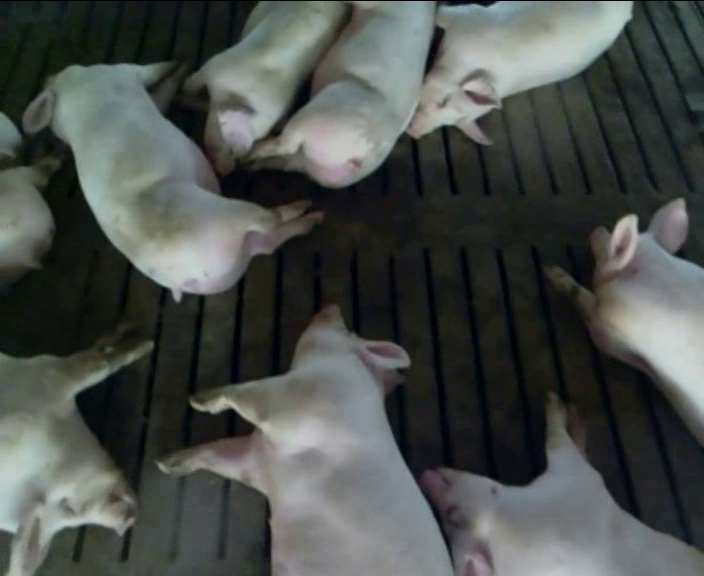pig: (157, 305, 451, 573), (24, 62, 321, 299), (421, 393, 703, 574), (545, 198, 703, 445), (0, 330, 152, 573), (239, 2, 434, 187), (407, 2, 631, 143), (175, 2, 347, 174)
